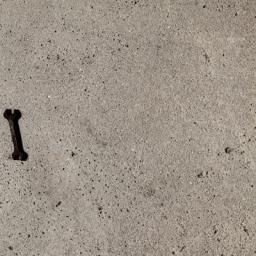FOD: (2, 105, 35, 165)
